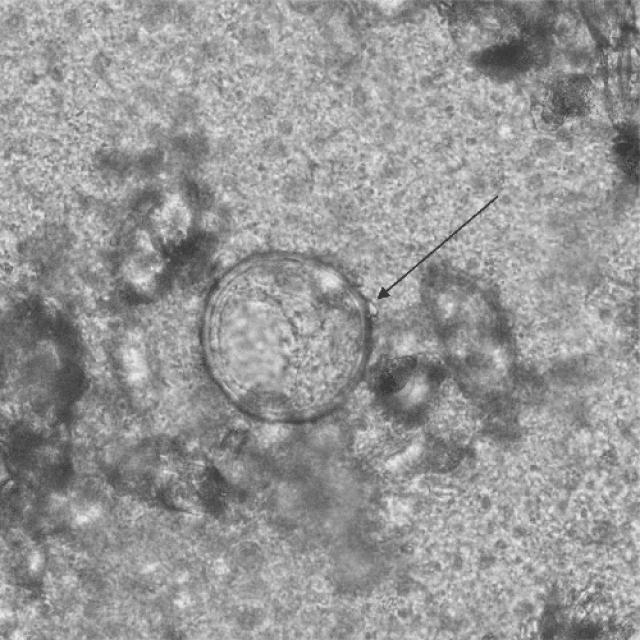Schistosoma: (198, 245, 376, 435)
